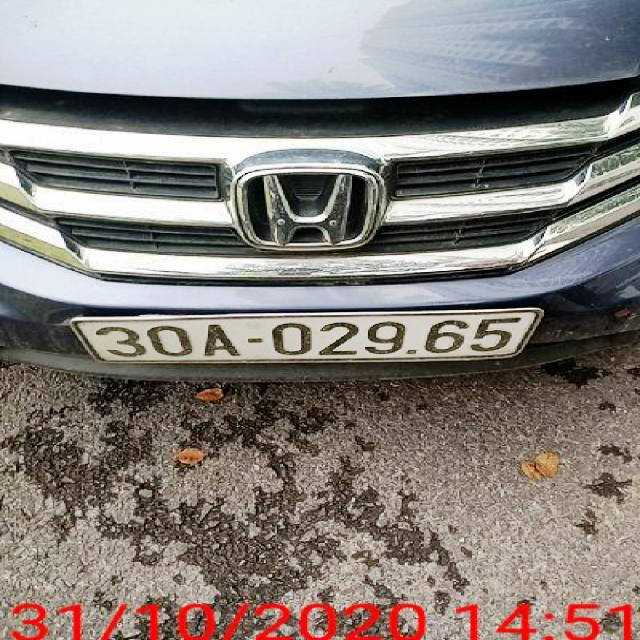license_plate: (77, 314, 540, 361)
